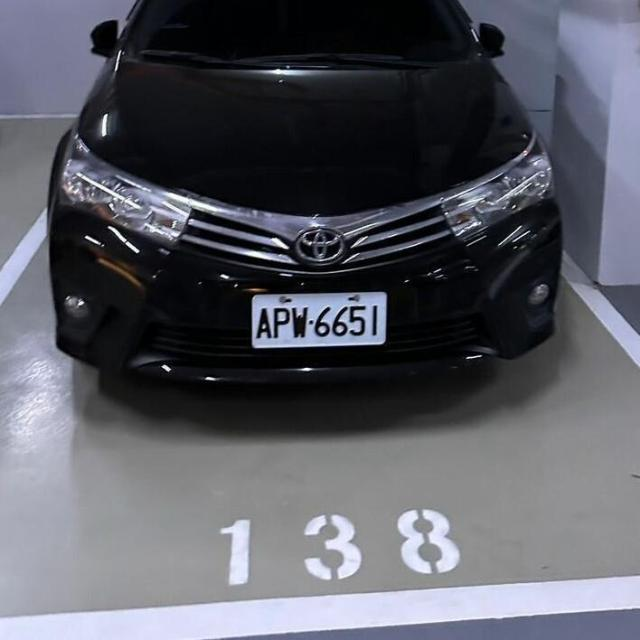W: (241, 288, 398, 356)
